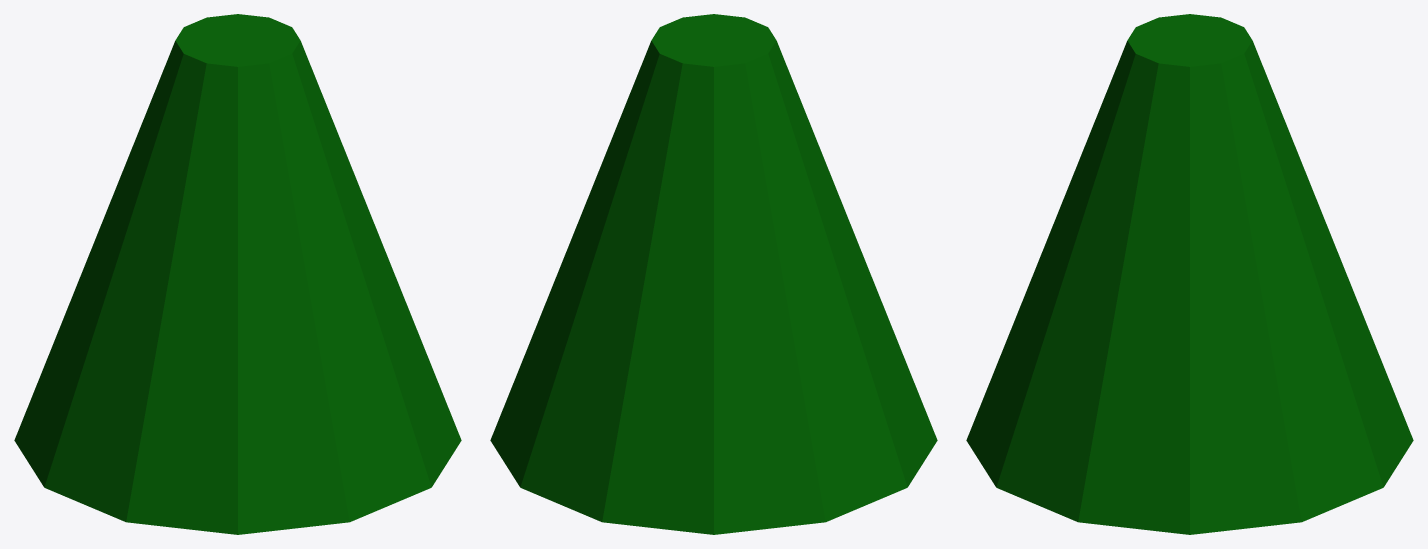
File: Prop_Industrial_Rocket_Head_01.FBX
3 renders of one model, left to right at view 1: azimuth 30°, elevation 25°; view 2: azimuth 150°, elevation 25°; view 3: azimuth 270°, elevation 25°, orthographic.
Visible parts, largest first — view 1: Prop_Industrial_Rocket_Head_01; view 2: Prop_Industrial_Rocket_Head_01; view 3: Prop_Industrial_Rocket_Head_01.
Part boxes in pixels (x1,y1,x2,y2): Prop_Industrial_Rocket_Head_01: [14, 14, 461, 534]; Prop_Industrial_Rocket_Head_01: [490, 14, 937, 534]; Prop_Industrial_Rocket_Head_01: [966, 14, 1413, 534].
Bounding box in the file's own units: 1538 × 1518 × 1538.
